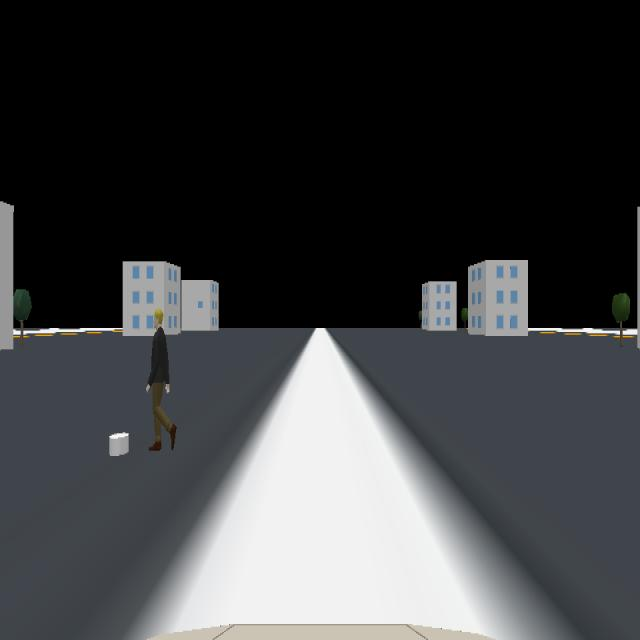human: (145, 306, 177, 451)
